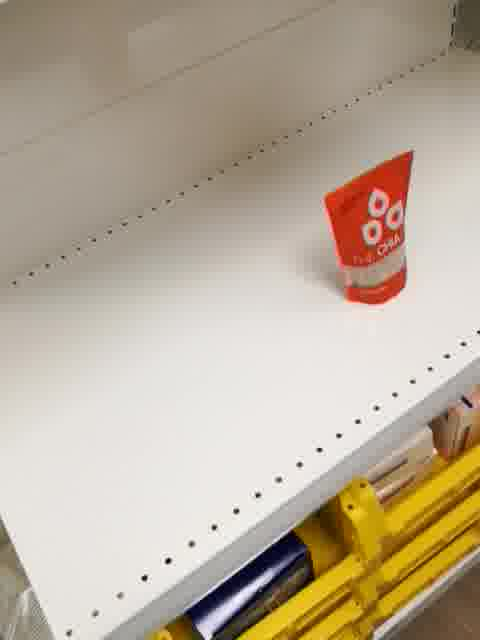whitechia: (323, 150, 413, 306)
